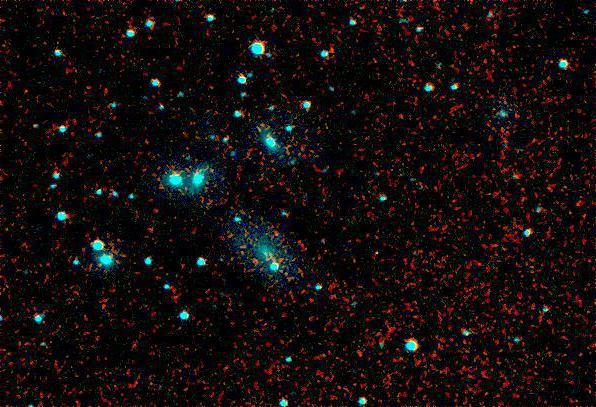star: (263, 216, 293, 246)
